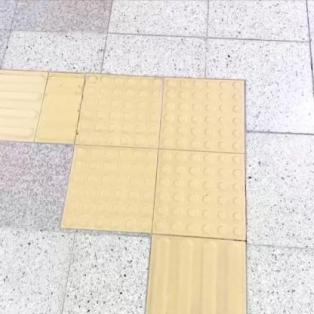Podoctatil: (42, 40, 267, 281)
